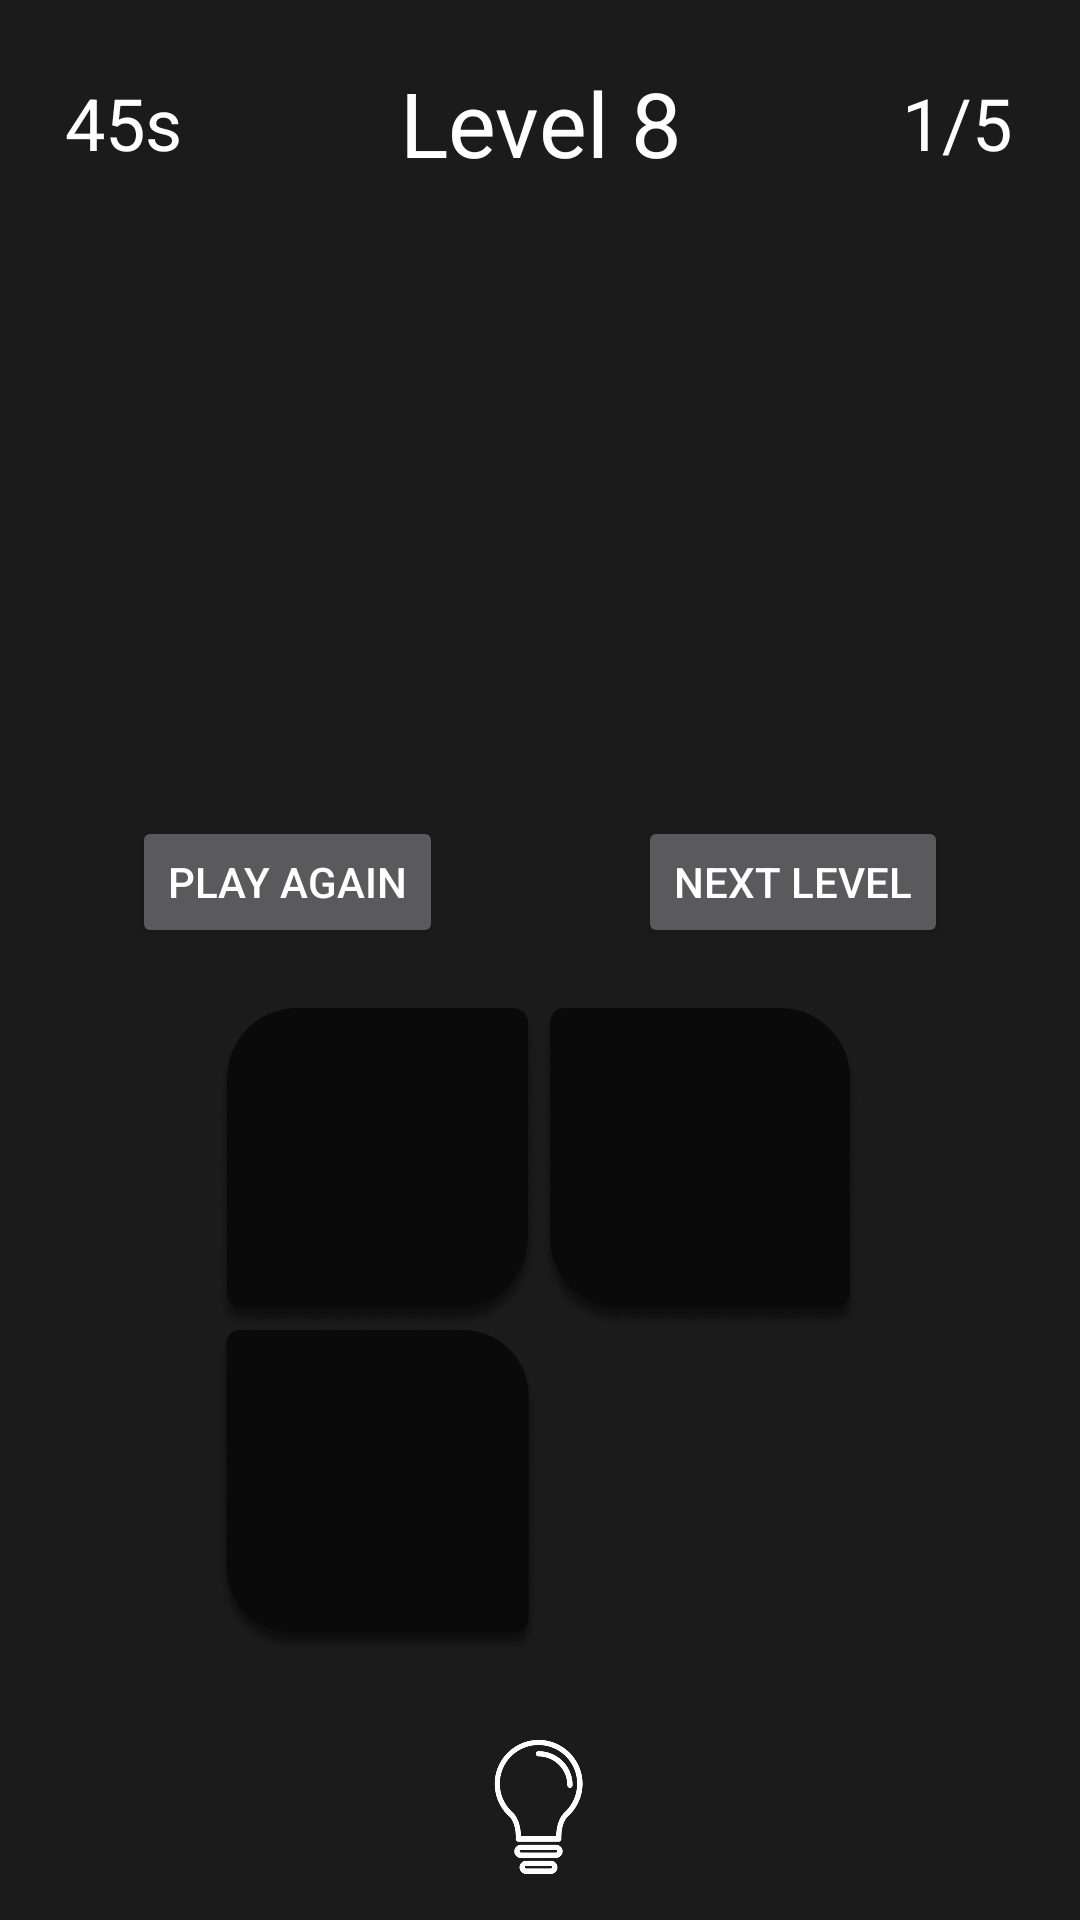

Screen size 1080 × 1920. Icon name, then its box in pixels as (x1, y1, x2, y2):
bulb: (494, 1740, 583, 1874)
